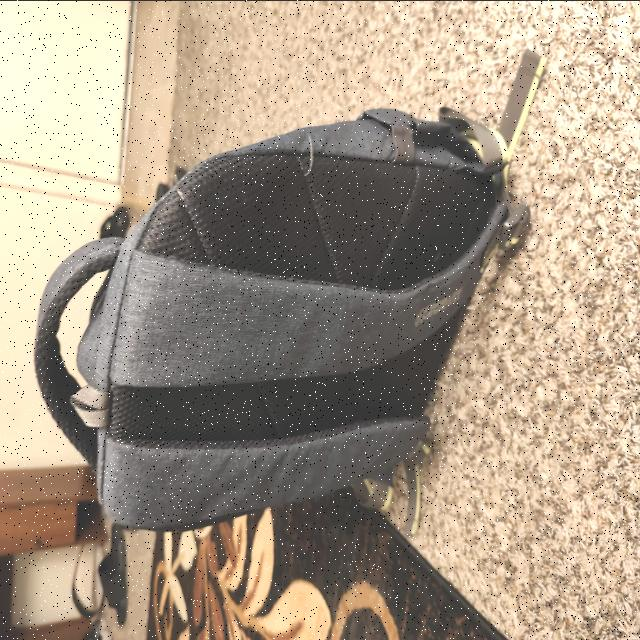bag: (33, 144, 478, 516)
